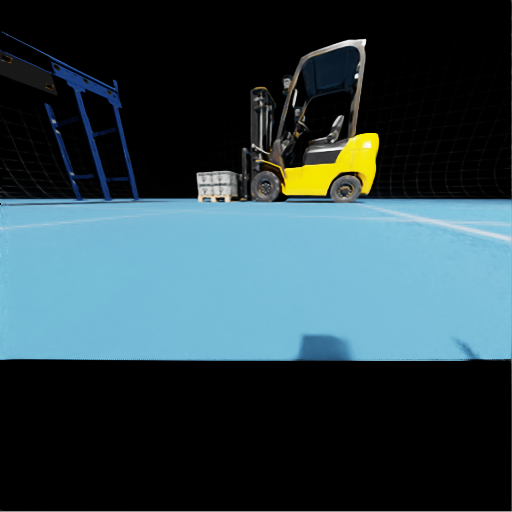transportation_area: (213, 184, 241, 194), (234, 172, 235, 177)
